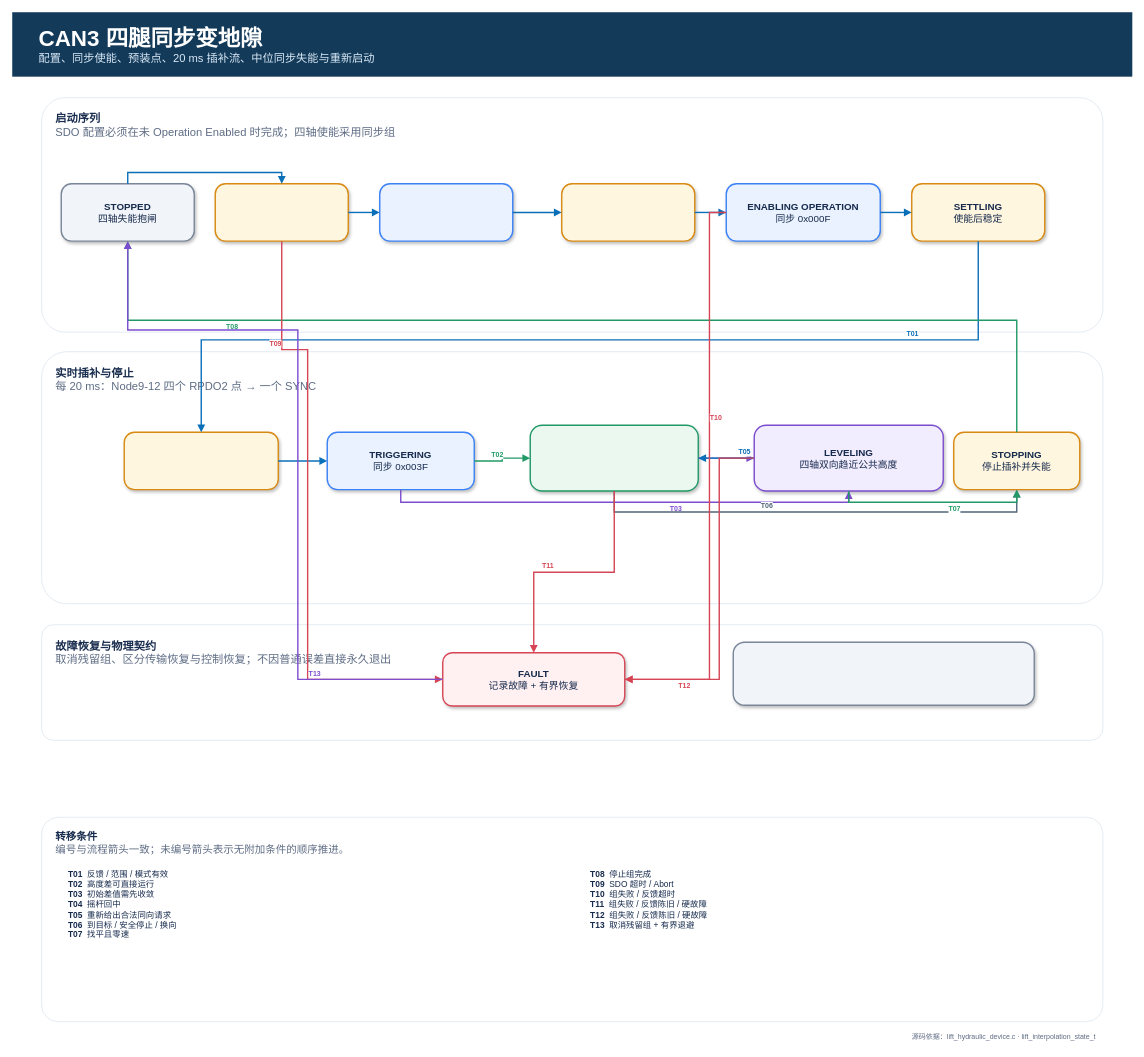
The diagram is 1144 pixels wide and 1057 high, and some of its shapes have lost their labels. Each missing label, with the centre of its shape:
CONFIGURING SDO 设置插补: the point at 282,213
Node9-12：131072 count/rev 20 rev / 10 mm · 安全区 10–490 mm 伸腿时绝对位置向负方向: the point at 884,674
PRELOADING 3 组静止插补点: the point at 201,461
READY TO SWITCH ON 同步 0x0007: the point at 446,213
RUNNING 四点 + SYNC / 20 ms: the point at 614,458
SWITCHING ON 等待反馈: the point at 628,213
